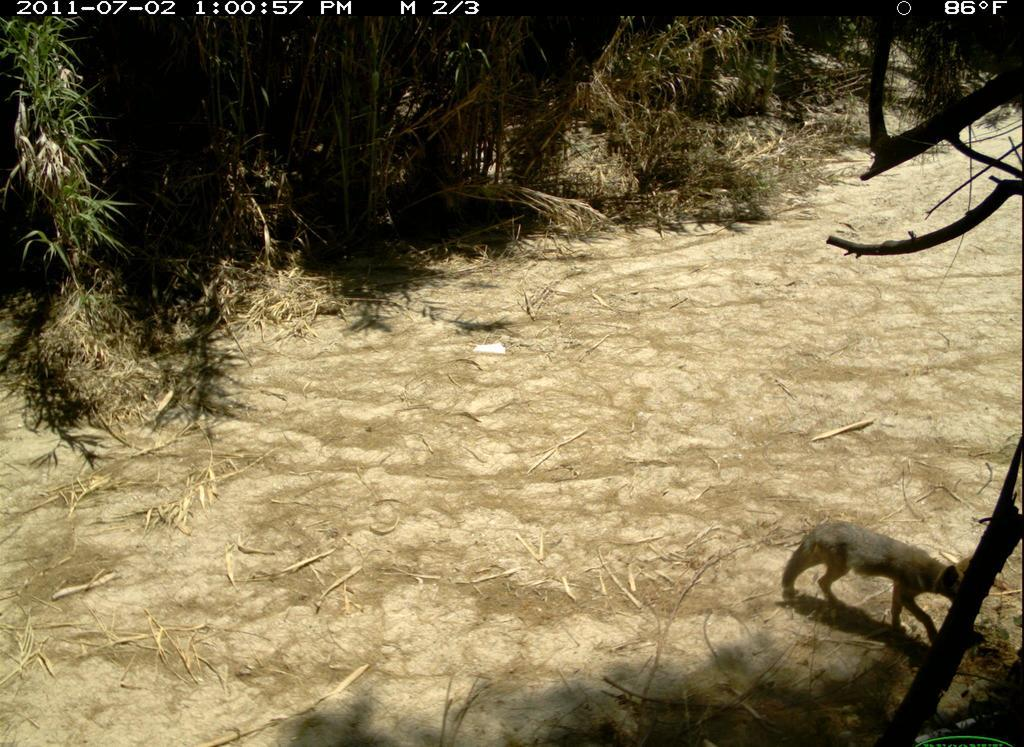coyote: (777, 519, 982, 656)
